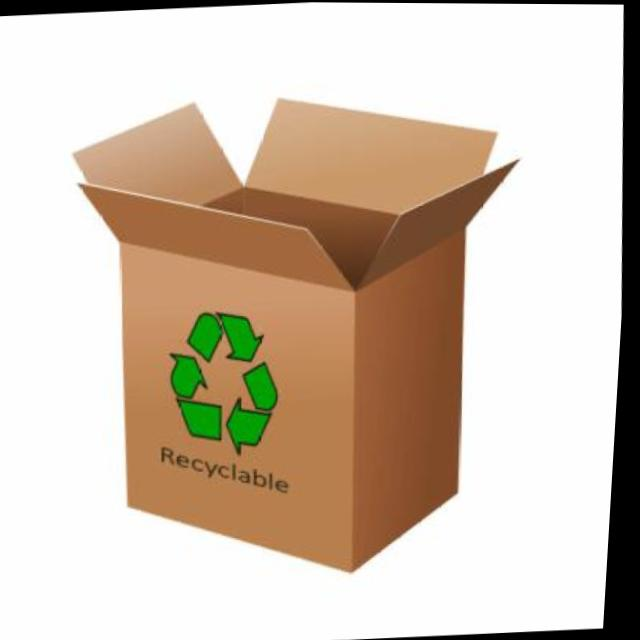box: (44, 74, 552, 601)
